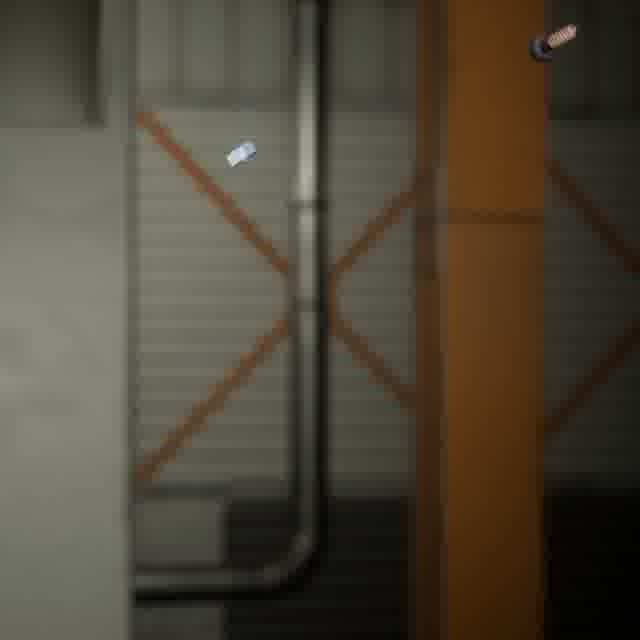bolt: (523, 20, 582, 66)
nut: (222, 136, 261, 170)
